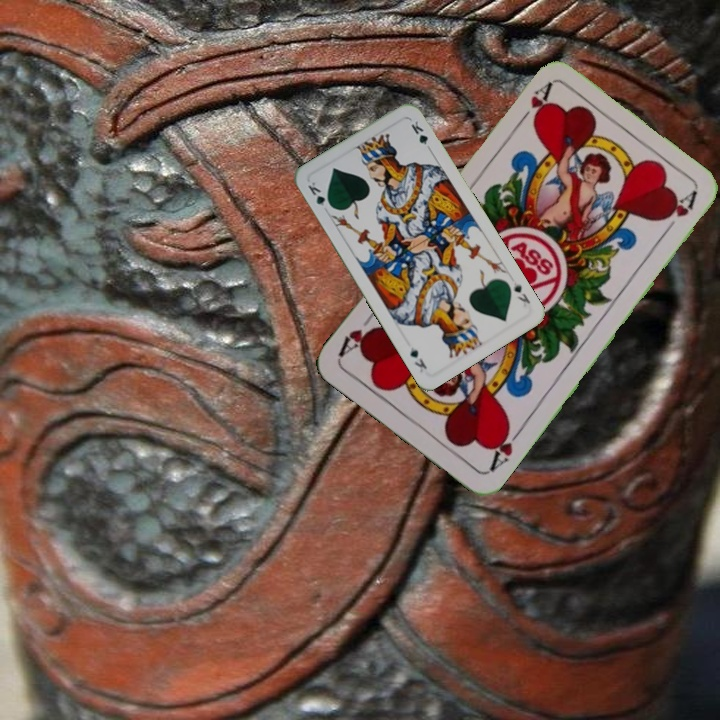GK: (303, 178, 335, 211), (509, 278, 533, 306)
HA: (484, 420, 526, 474), (512, 79, 555, 130)
